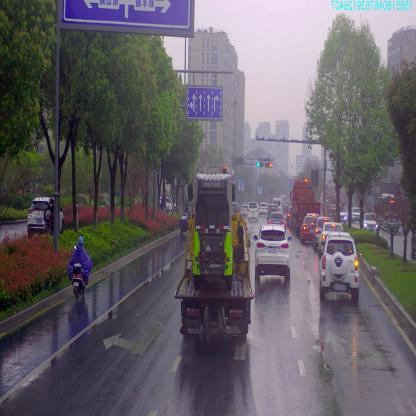traffic-light: (256, 161, 264, 169), (265, 162, 273, 167)
